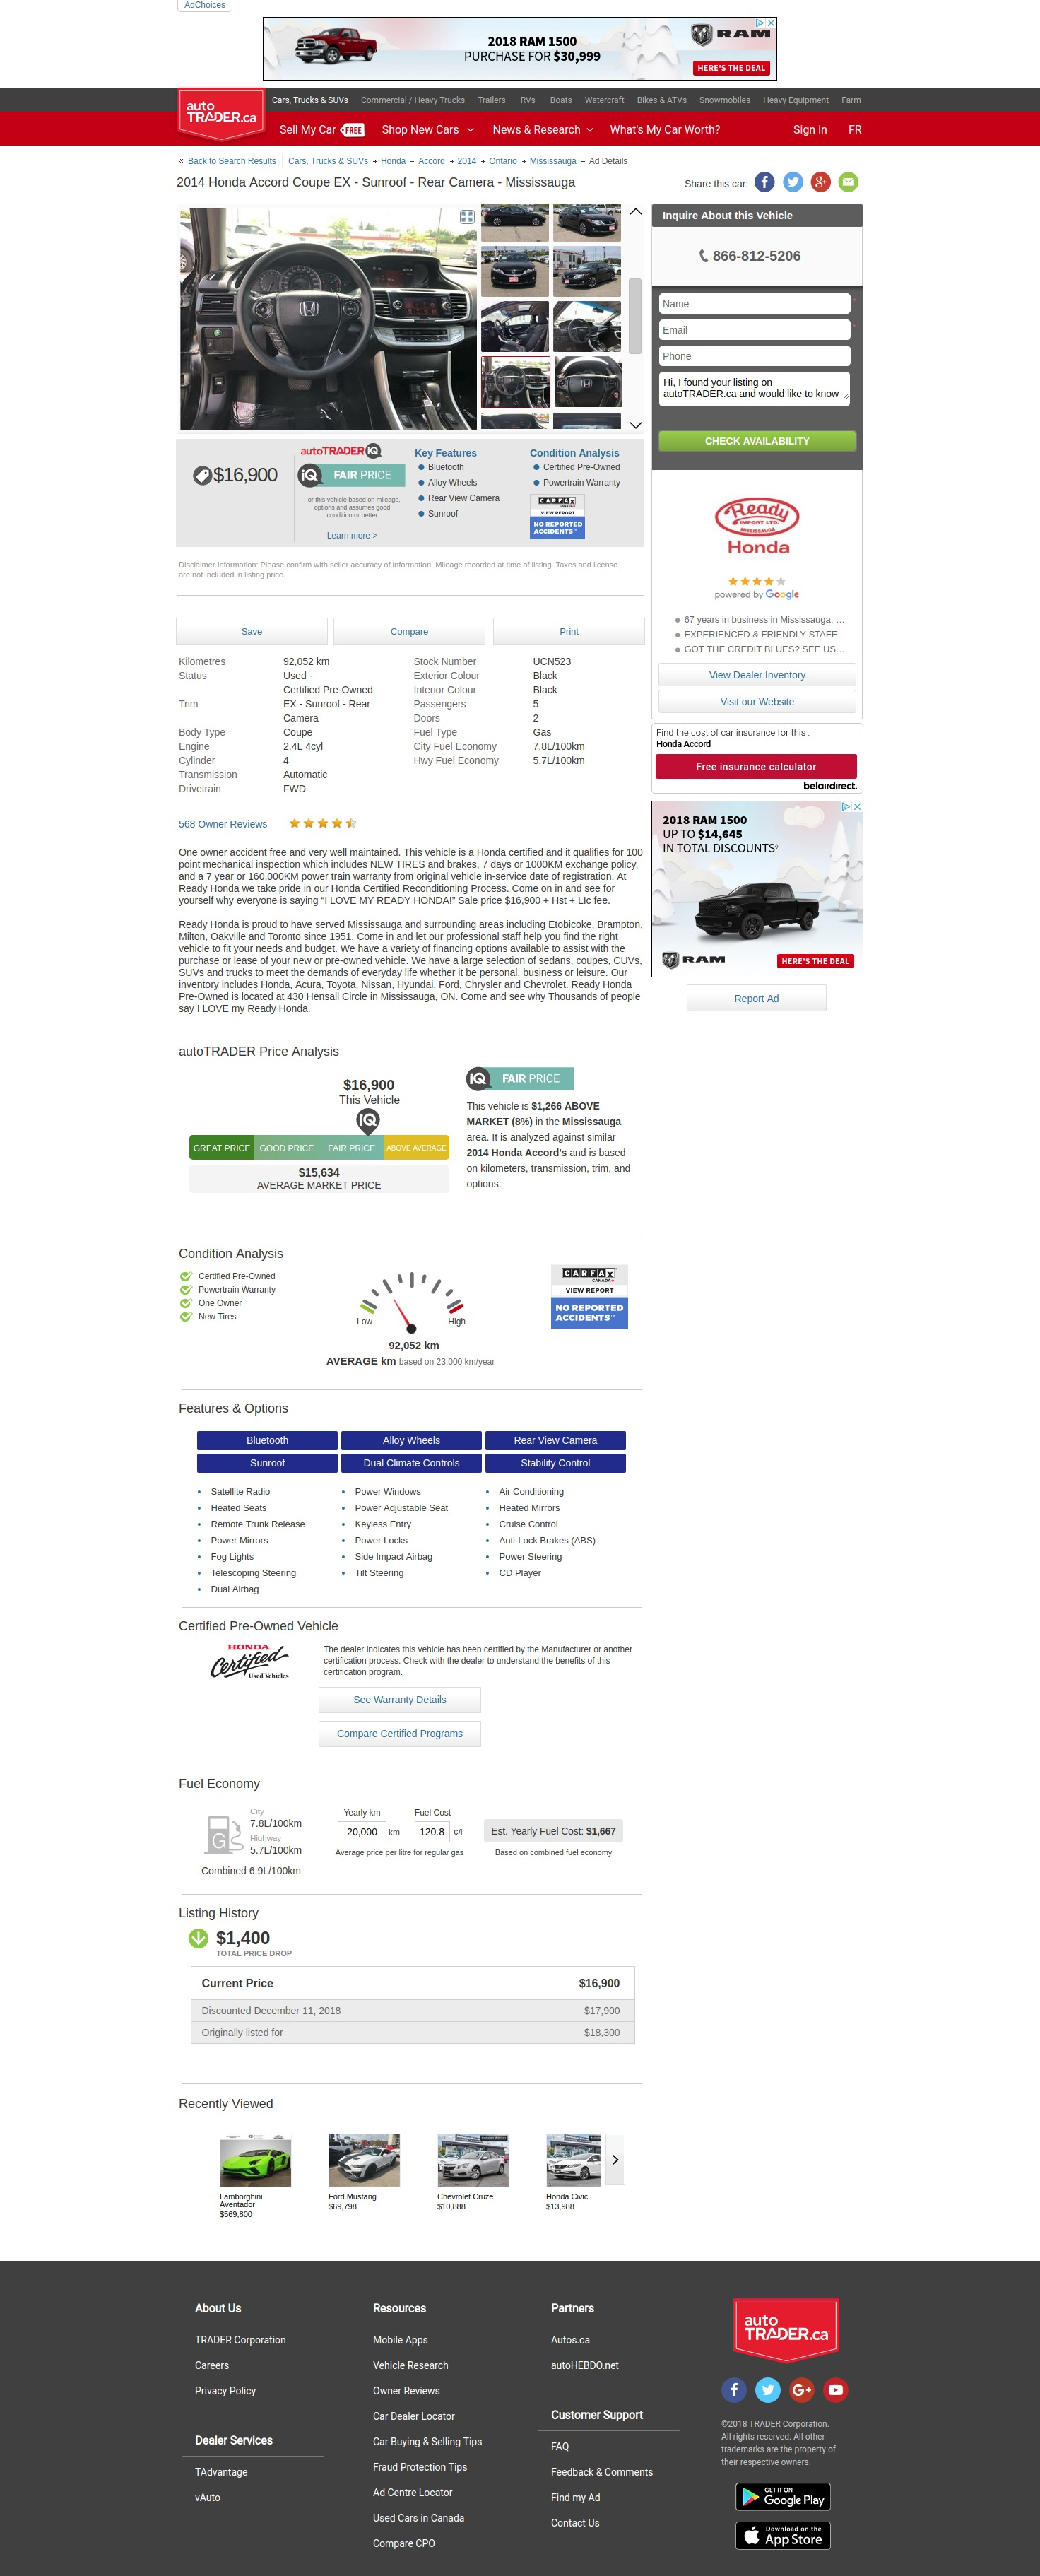car: (629, 421, 642, 430)
